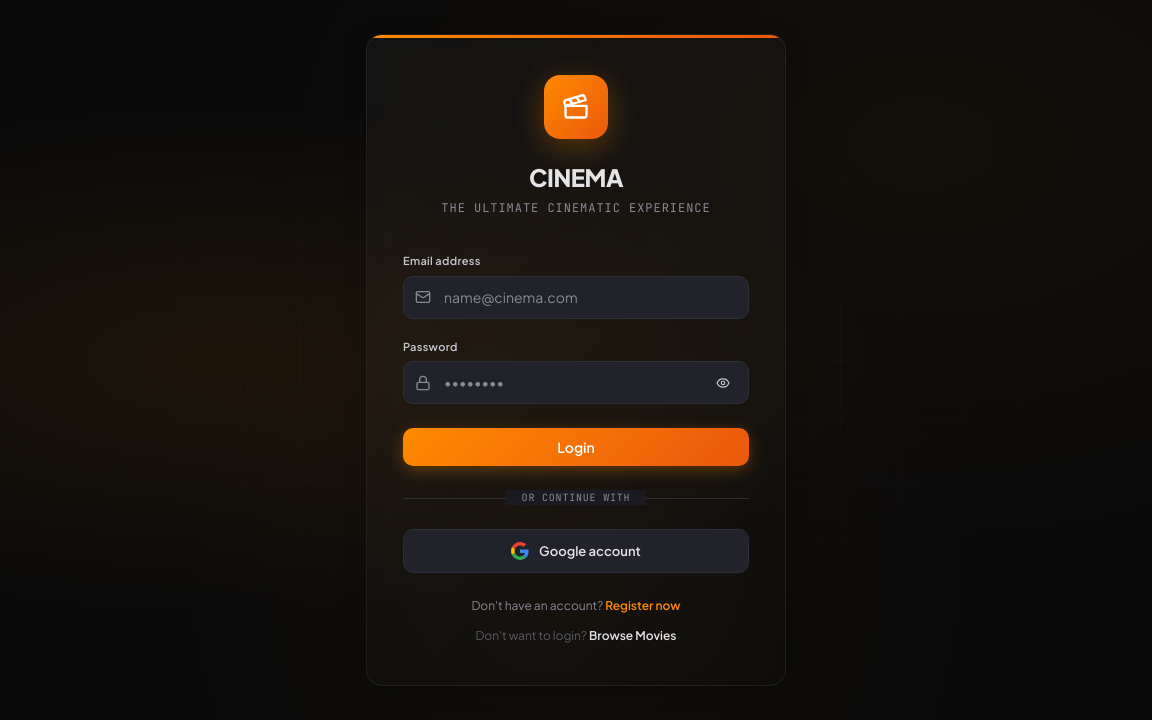
LoginForm › disables submit button while loading
Step 1. Type "test@test.com" into the field with placeholder "name@cinema.com" → point(576, 297), box [403,276,749,318]
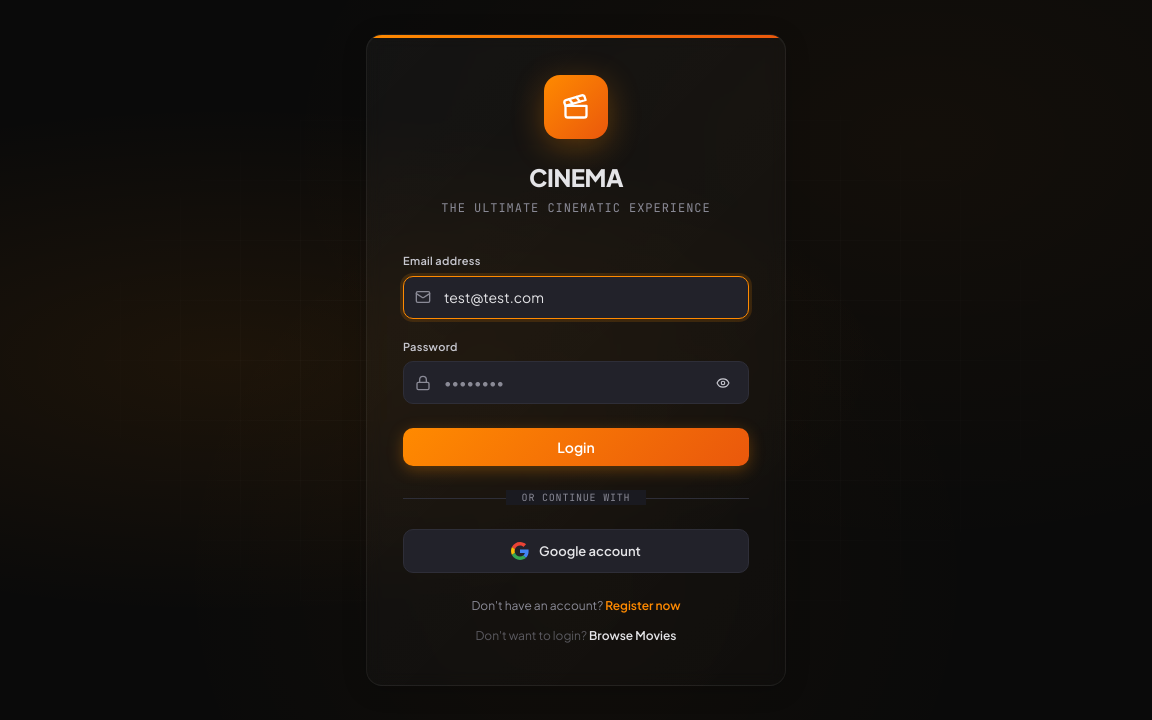
Step 2. Type "password123" into the password field with placeholder "••••••••" → point(576, 382), box [403,361,749,404]
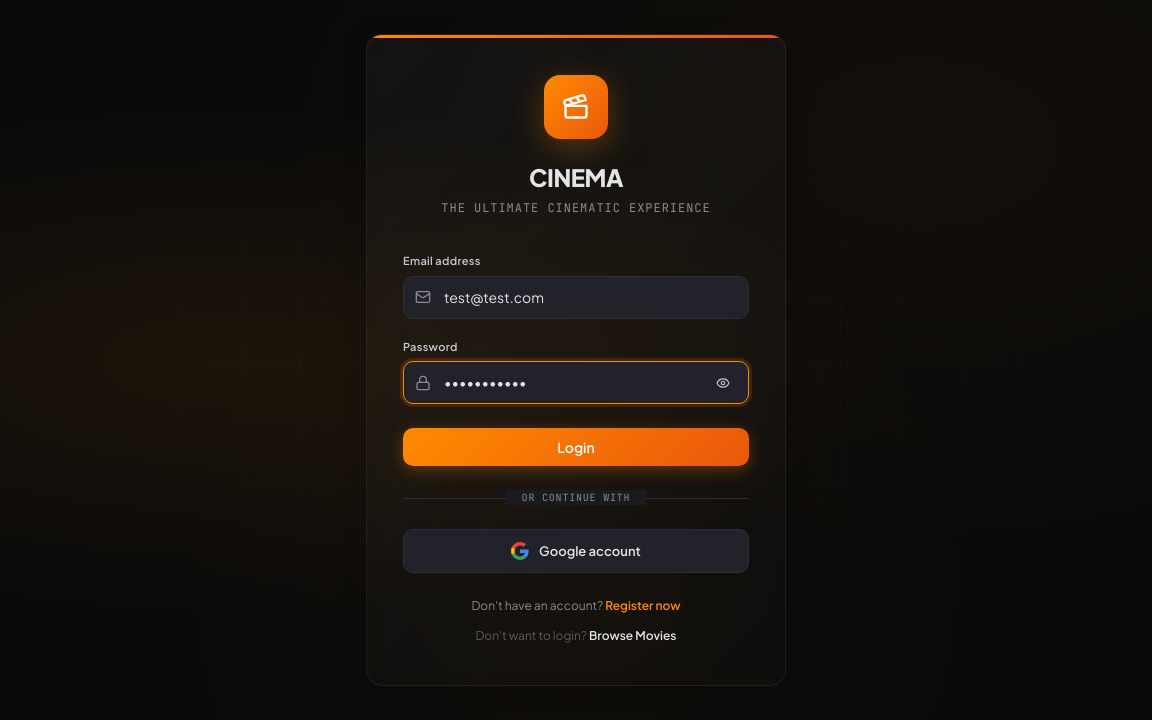
Step 3. Click the button "Login" → point(576, 447), box [403,428,749,466]
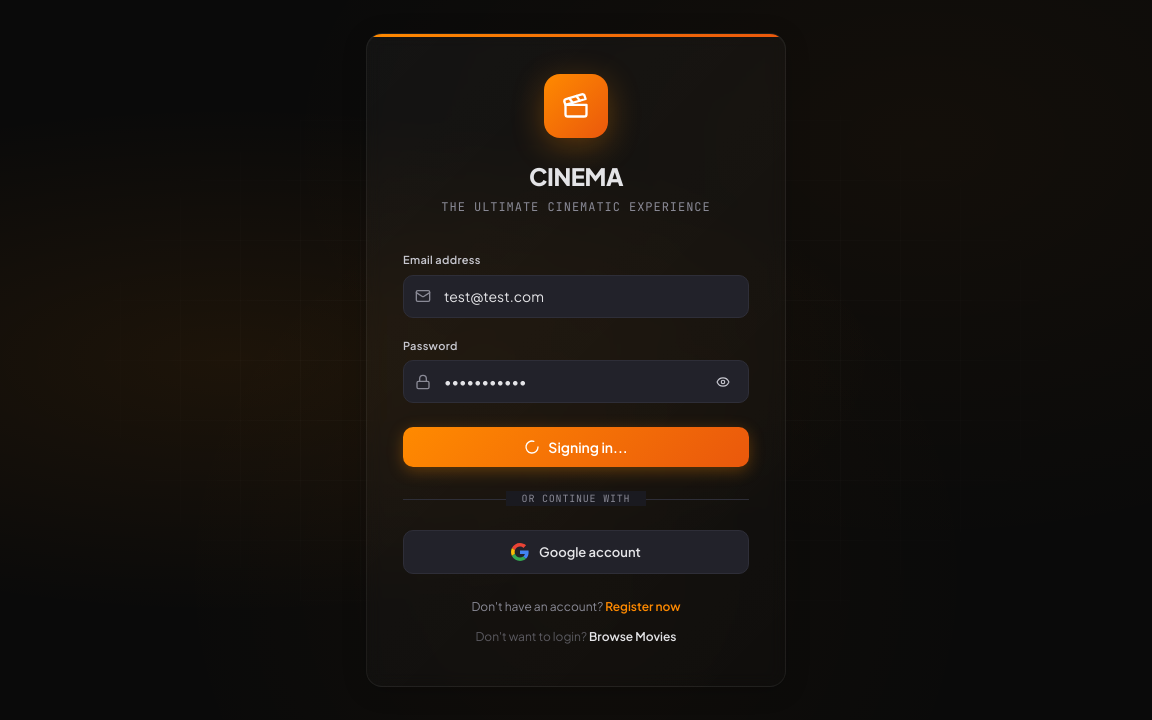
Now the button "Signing in..." is disabled, box [403,427,749,467]
